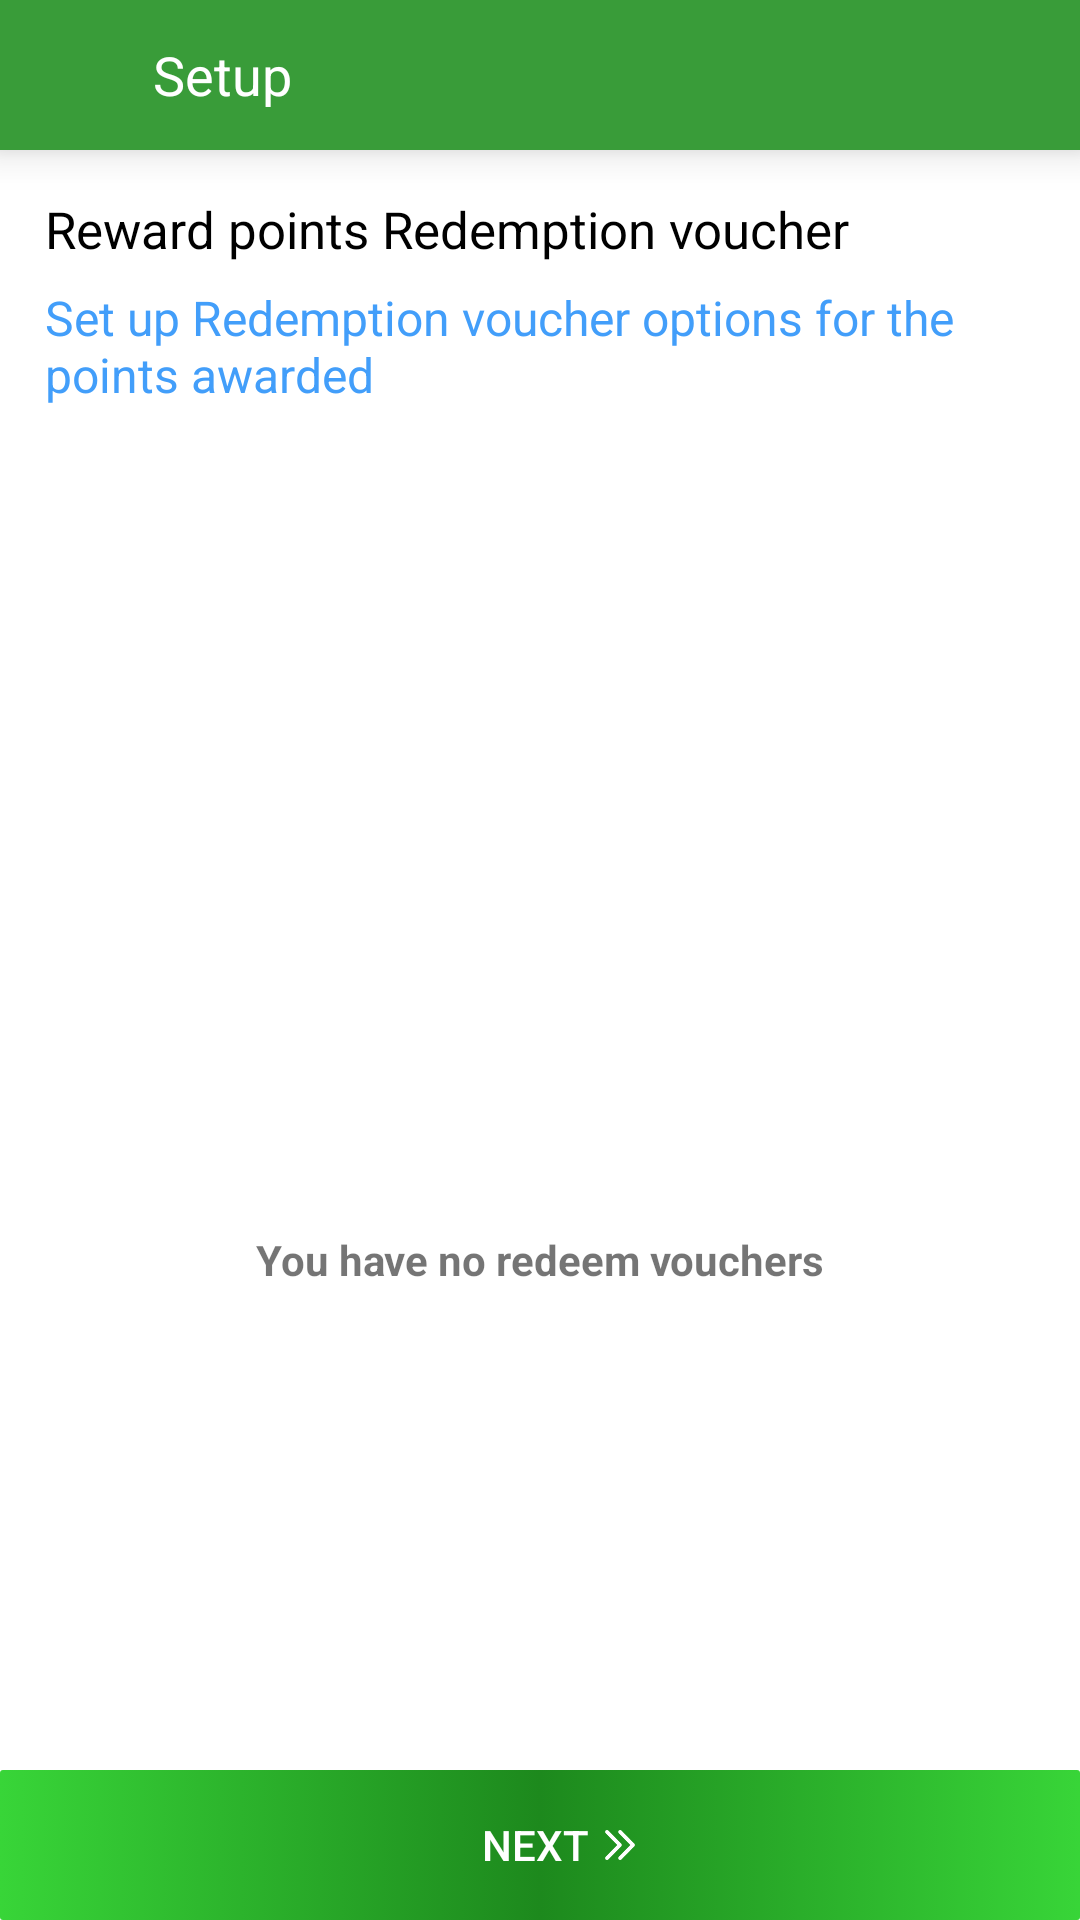

Screen size 1080px x 1920px. Icon name, then its center in pixels as [x,y]:
arrow: [620,1845]
